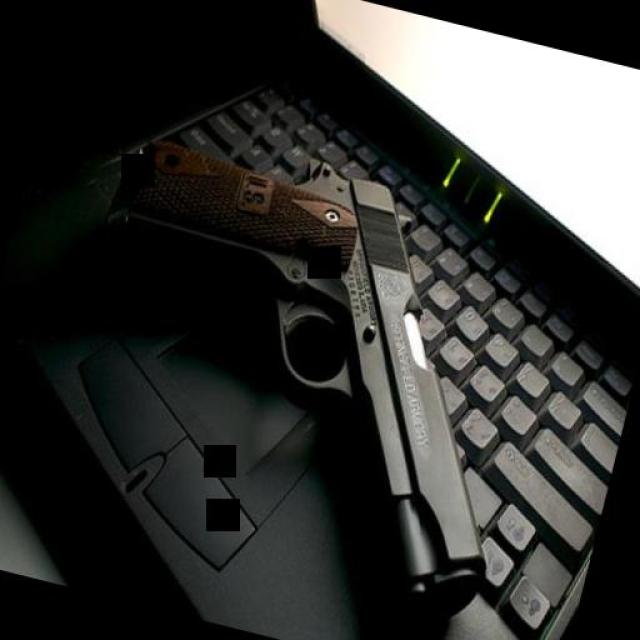gun: (35, 125, 569, 629)
